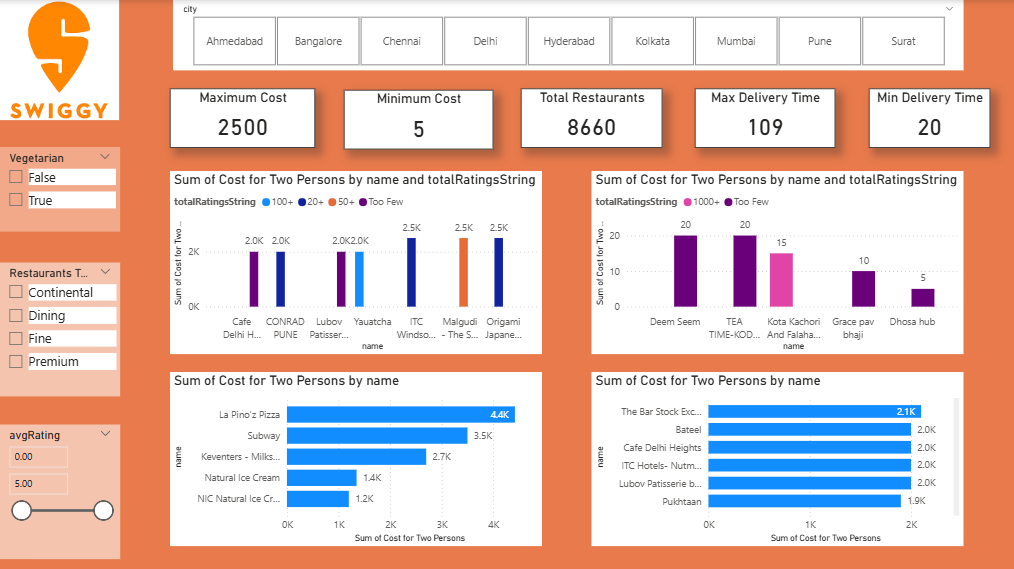

The page's visual inventory and layout, read from the dashboard file:
{"tool":"powerbi","page":{"name":"Page 2","canvas":[1280,720],"ordinal":1},"visuals":[{"type":"slicer","fields":{"Values":["Swiggy_Final_Data.Restaurants Type"]},"box":[11.3,359.1,183.3,158.7],"z":0},{"type":"slicer","fields":{"Values":["Swiggy_Final_Data.Vegetarian"]},"box":[9.4,548,183.3,149.3],"z":1000},{"type":"slicer","fields":{"Values":["Swiggy_Final_Data.avgRating"]},"box":[11.3,183.3,183.3,149.3],"z":2000},{"type":"slicer","fields":{"Values":["Swiggy_Final_Data.city"]},"box":[224.9,0,1012.9,90.7],"z":3000},{"type":"card","title":"Maximum Cost","fields":{"Values":["Max(Swiggy_Final_Data.Cost for Two Persons)"]},"box":[224.9,103.9,183.3,69.9],"z":4000},{"type":"card","title":"Max Delivery Time","fields":{"Values":["Max(Swiggy_Final_Data.maxDeliveryTime)"]},"box":[1063.9,103.9,173.9,69.9],"z":5000},{"type":"card","title":"Min Delivery Time","fields":{"Values":["Min(Swiggy_Final_Data.minDeliveryTime)"]},"box":[854.2,103.9,173.9,69.9],"z":6000},{"type":"card","title":"Total Restaurants","fields":{"Values":["CountNonNull(Swiggy_Final_Data.id)"]},"box":[646.3,103.9,172,69.9],"z":7000},{"type":"card","title":"Minimum Cost","fields":{"Values":["Min(Swiggy_Final_Data.Cost for Two Persons)"]},"box":[434.6,103.9,183.3,69.9],"z":8000},{"type":"shape","box":[224.9,183.3,1054.5,536.7],"z":9000},{"type":"image","box":[9.4,15.1,183.3,149.3],"z":10000},{"type":"clusteredColumnChart","fields":{"Category":["Swiggy_Final_Data.name"],"Series":["Swiggy_Final_Data.totalRatingsString"],"Y":["Sum(Swiggy_Final_Data.Cost for Two Persons)"]},"box":[224.9,183.3,506.5,234.3],"z":11000},{"type":"clusteredColumnChart","fields":{"Category":["Swiggy_Final_Data.name"],"Series":["Swiggy_Final_Data.totalRatingsString"],"Y":["Sum(Swiggy_Final_Data.Cost for Two Persons)"]},"box":[772.9,185.2,478.1,234.3],"z":13001},{"type":"barChart","fields":{"Category":["Swiggy_Final_Data.name"],"Y":["Sum(Swiggy_Final_Data.Cost for Two Persons)"]},"box":[224.9,417.6,506.5,300.5],"z":13003},{"type":"barChart","fields":{"Category":["Swiggy_Final_Data.name"],"Y":["Max(Swiggy_Final_Data.Cost for Two Persons)"]},"box":[772.9,419.5,506.5,300.5],"z":13004}]}

Visuals, with their boxes in screenshot pixels (x1, y1, x2, y2), scaled from the page's 1280x720 canvas onto the 1014x569 screenshot:
slicer - Swiggy_Final_Data.Restaurants Type: rect(9, 284, 154, 409)
slicer - Swiggy_Final_Data.Vegetarian: rect(7, 433, 153, 551)
slicer - Swiggy_Final_Data.avgRating: rect(9, 145, 154, 263)
slicer - Swiggy_Final_Data.city: rect(178, 0, 981, 72)
"Maximum Cost" card: rect(178, 82, 323, 137)
"Max Delivery Time" card: rect(843, 82, 981, 137)
"Min Delivery Time" card: rect(677, 82, 814, 137)
"Total Restaurants" card: rect(512, 82, 648, 137)
"Minimum Cost" card: rect(344, 82, 489, 137)
shape: rect(178, 145, 1013, 568)
image: rect(7, 12, 153, 130)
clusteredColumnChart - Swiggy_Final_Data.name x Swiggy_Final_Data.totalRatingsString: rect(178, 145, 579, 330)
clusteredColumnChart - Swiggy_Final_Data.name x Swiggy_Final_Data.totalRatingsString: rect(612, 146, 991, 332)
barChart - Swiggy_Final_Data.name x Sum(Swiggy_Final_Data.Cost for Two Persons): rect(178, 330, 579, 567)
barChart - Swiggy_Final_Data.name x Max(Swiggy_Final_Data.Cost for Two Persons): rect(612, 332, 1013, 568)
